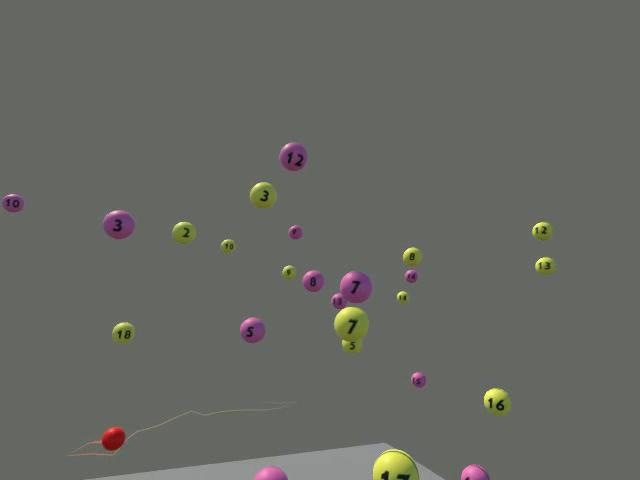ball_02_yellow: (171, 221, 195, 244)
ball_03_pink: (102, 209, 134, 239)
ball_03_yellow: (249, 181, 276, 207)
ball_05_pink: (239, 317, 265, 343)
ball_07_pink: (339, 270, 371, 303)
ball_07_yellow: (333, 306, 369, 341)
ball_08_pink: (302, 270, 324, 292)
ball_08_yellow: (402, 246, 422, 266)
ball_09_pink: (288, 225, 303, 240)
ball_09_yellow: (281, 265, 296, 279)
ball_10_pink: (2, 193, 24, 213)
ball_10_yellow: (220, 238, 235, 252)
ball_12_pink: (279, 142, 307, 171)
ball_12_yellow: (532, 221, 552, 240)
ball_13_pink: (332, 294, 344, 308)
ball_13_yellow: (535, 256, 556, 275)
ball_14_pink: (404, 269, 418, 283)
ball_14_yellow: (396, 291, 409, 304)
ball_15_pink: (411, 372, 427, 388)
ball_16_yellow: (483, 388, 511, 416)
ball_18_yellow: (111, 321, 136, 345)
ball_25_yellow: (341, 337, 361, 353)
ball_unknown: (372, 448, 419, 479), (460, 463, 490, 479), (253, 466, 288, 479)
user_cursor: (101, 426, 125, 451)
